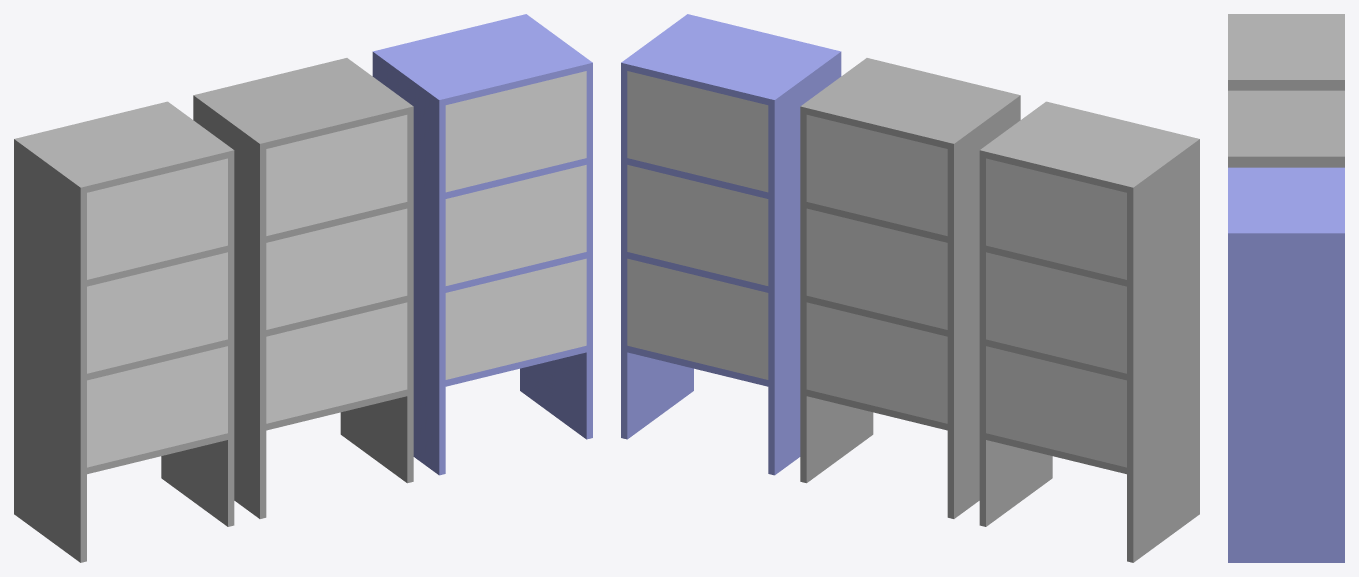
Rendered from almacen.glb.
3 views of the same model, side by side, from view 1: azimuth 30°, elevation 25°; view 2: azimuth 150°, elevation 25°; view 3: azimuth 270°, elevation 25° (orthographic). The views are drawn at different scales.
Parts seen in each view (by area): view 1: Pieza1-1, Pieza2-1, Pieza3-1, Pieza12-1, Pieza8-1, Pieza7-1, Pieza9-1, Pieza11-1, Pieza10-1, Pieza6-1, Pieza5-1, Pieza4-1; view 2: Pieza1-1, Pieza2-1, Pieza3-1, Pieza12-1, Pieza8-1, Pieza7-1, Pieza9-1, Pieza11-1, Pieza10-1, Pieza6-1, Pieza5-1, Pieza4-1; view 3: Pieza3-1, Pieza2-1, Pieza1-1.
Part boxes in pixels (x1=…): Pieza1-1: x1=14, y1=101, x2=234, y2=562; Pieza2-1: x1=193, y1=58, x2=413, y2=518; Pieza3-1: x1=372, y1=14, x2=592, y2=475; Pieza12-1: x1=445, y1=258, x2=586, y2=379; Pieza8-1: x1=266, y1=208, x2=407, y2=329; Pieza7-1: x1=266, y1=302, x2=407, y2=423; Pieza9-1: x1=266, y1=115, x2=407, y2=235; Pieza11-1: x1=445, y1=165, x2=586, y2=285; Pieza10-1: x1=445, y1=71, x2=586, y2=192; Pieza6-1: x1=87, y1=158, x2=227, y2=279; Pieza5-1: x1=87, y1=252, x2=227, y2=373; Pieza4-1: x1=87, y1=346, x2=227, y2=467; Pieza1-1: x1=979, y1=101, x2=1199, y2=562; Pieza2-1: x1=800, y1=58, x2=1020, y2=518; Pieza3-1: x1=621, y1=14, x2=841, y2=475; Pieza12-1: x1=627, y1=258, x2=768, y2=379; Pieza8-1: x1=806, y1=208, x2=947, y2=329; Pieza7-1: x1=806, y1=302, x2=947, y2=423; Pieza9-1: x1=806, y1=115, x2=947, y2=235; Pieza11-1: x1=627, y1=165, x2=768, y2=285; Pieza10-1: x1=627, y1=71, x2=768, y2=192; Pieza6-1: x1=986, y1=158, x2=1126, y2=279; Pieza5-1: x1=986, y1=252, x2=1126, y2=373; Pieza4-1: x1=986, y1=346, x2=1126, y2=467; Pieza3-1: x1=1228, y1=167, x2=1344, y2=562; Pieza2-1: x1=1228, y1=90, x2=1344, y2=167; Pieza1-1: x1=1228, y1=14, x2=1344, y2=90.
Bounding box in the file's own units: 0.4 × 0.28 × 0.09.
